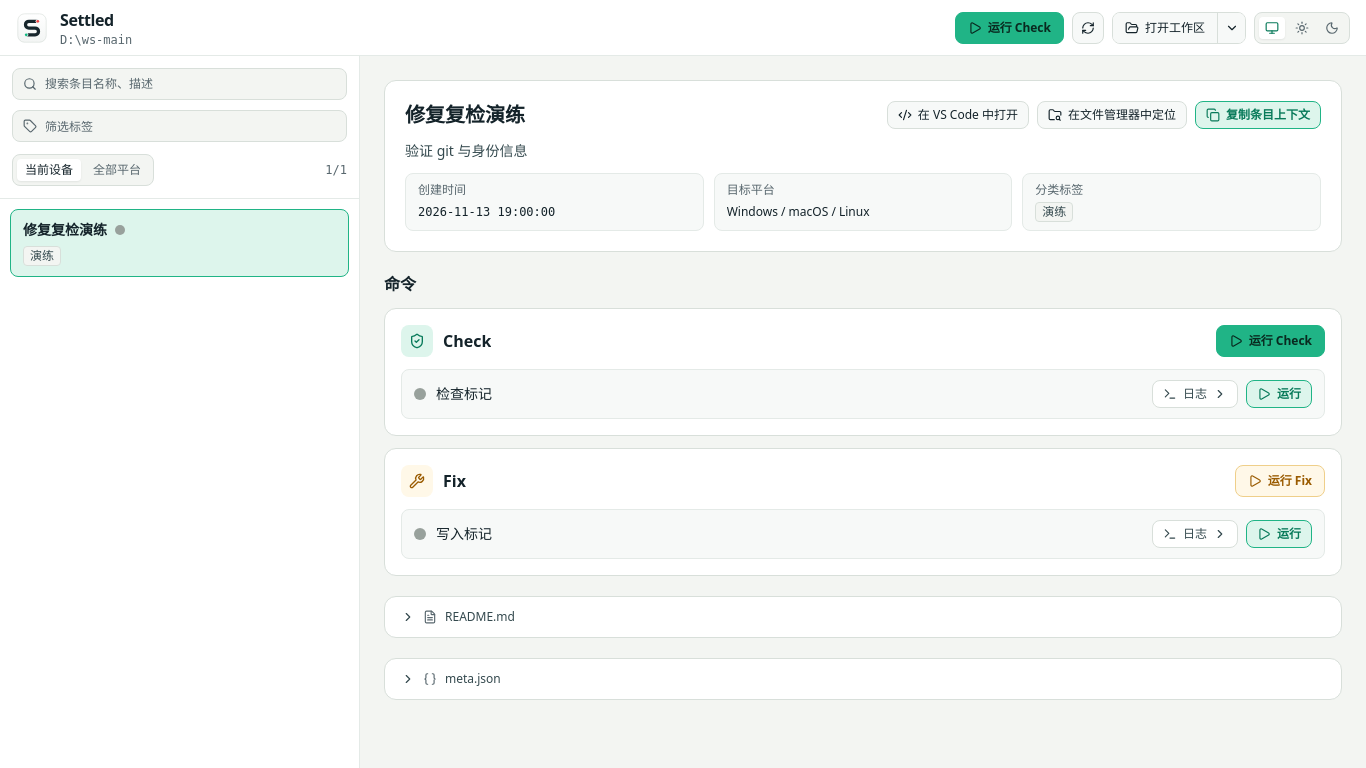
it: App integration › ignores stale workspace-mismatch rejection from A after switching to B
The image size is (1366, 768).
Expected: the text "D:\\ws-main" is shown, x1=60 y1=32 x2=132 y2=48
Start check in workspace A
Click the button "运行" in the row of "检查标记": [1279, 394] box x1=1246 y1=380 x2=1312 y2=408
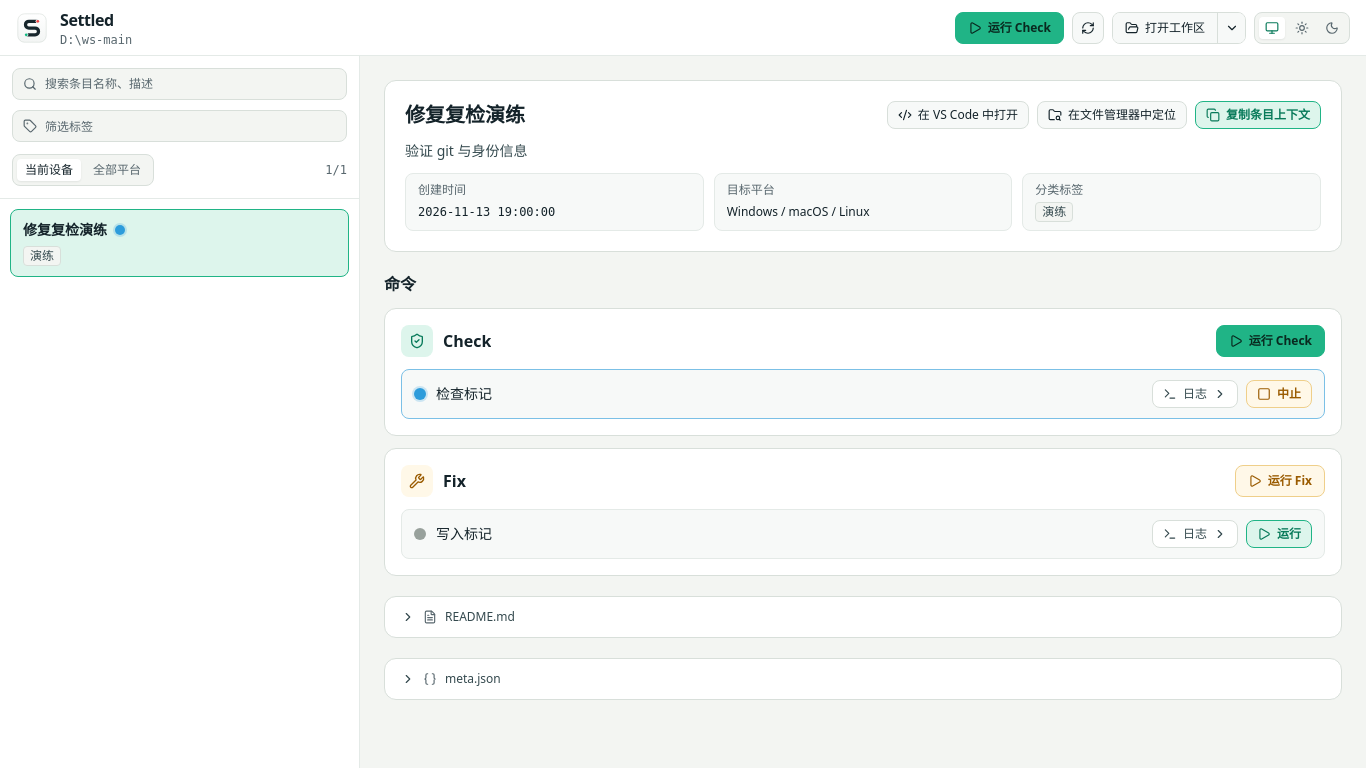
Result: the text "中止" is shown at x1=1277 y1=386 x2=1301 y2=402
Click the button "打开工作区": [1165, 28] box x1=1113 y1=12 x2=1217 y2=42
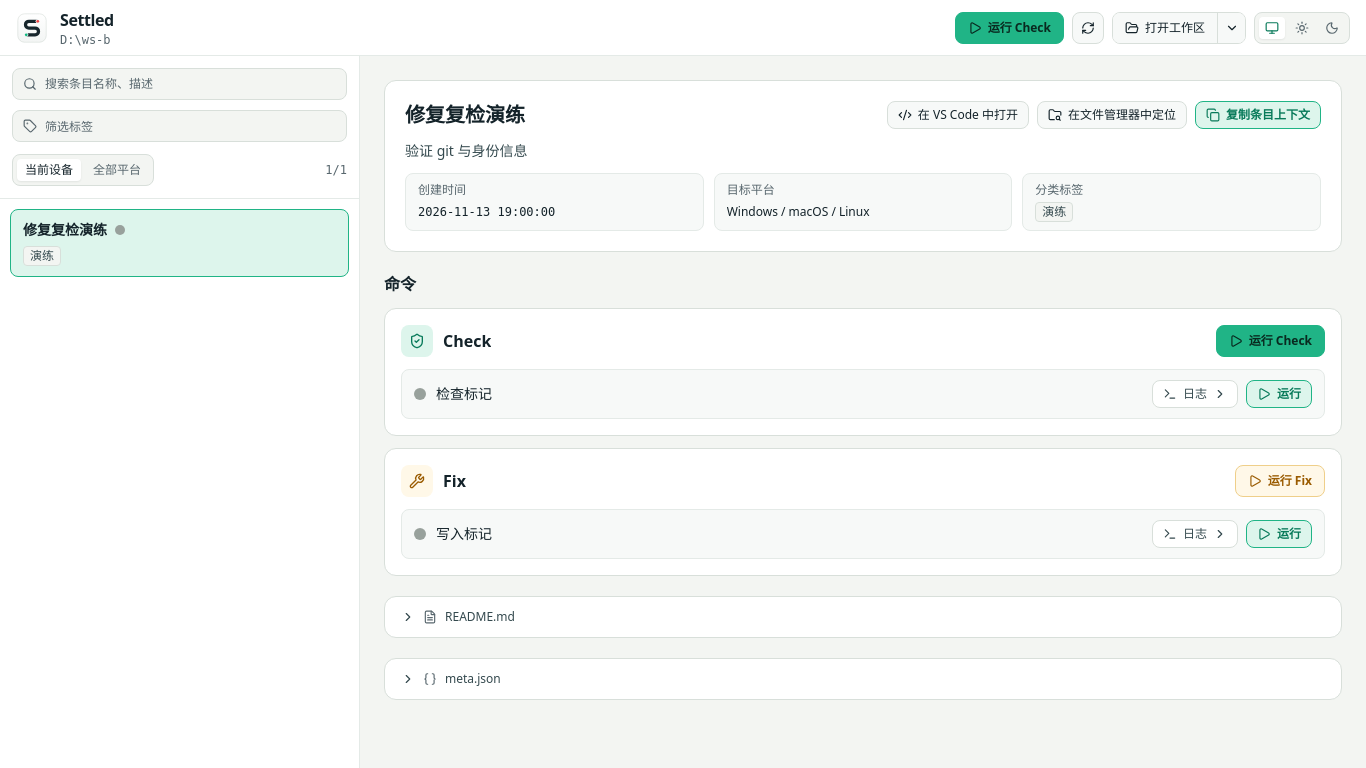
Result: the text "D:\\ws-b" is shown at x1=60 y1=32 x2=114 y2=48
